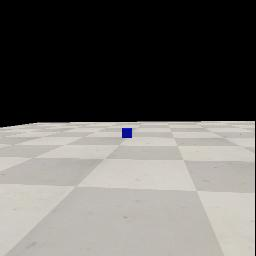box: (122, 128, 132, 138)
